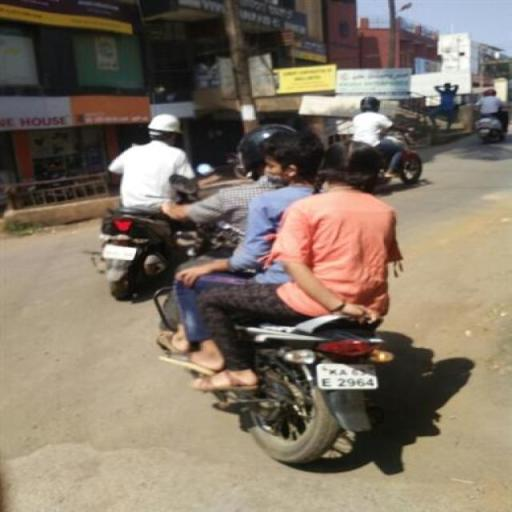tripple riding: (152, 122, 426, 309)
